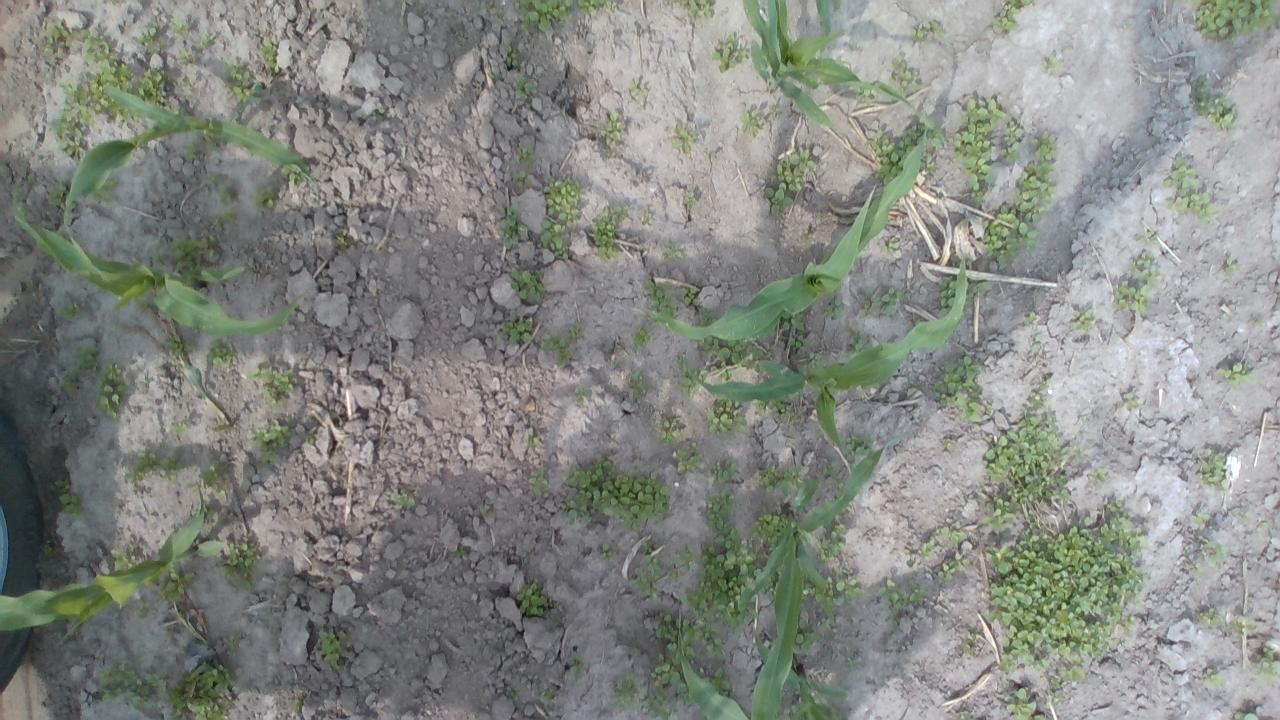Maize: (638, 134, 928, 342), (690, 254, 970, 458), (63, 80, 319, 280), (9, 178, 300, 339), (743, 438, 905, 720), (0, 485, 222, 648), (741, 0, 933, 130), (676, 622, 850, 720), (774, 0, 844, 37)
Weeds: (986, 516, 1148, 661), (982, 406, 1072, 504), (679, 529, 762, 635), (560, 454, 671, 531), (951, 97, 1007, 208), (1164, 156, 1226, 229), (50, 79, 99, 160), (1190, 0, 1280, 44), (165, 664, 235, 720), (868, 123, 924, 186), (981, 205, 1038, 264), (766, 147, 816, 214), (88, 56, 134, 124), (1188, 76, 1238, 134), (696, 336, 770, 374), (933, 355, 983, 407), (801, 566, 862, 608), (1014, 162, 1056, 222), (651, 612, 696, 666), (542, 174, 585, 228), (94, 363, 133, 420), (591, 205, 628, 262), (222, 536, 260, 590), (251, 419, 291, 464), (496, 202, 531, 252), (706, 395, 750, 434), (171, 233, 219, 268), (134, 68, 176, 106), (643, 278, 678, 323), (518, 0, 572, 29), (758, 462, 804, 496), (1196, 448, 1230, 493), (96, 662, 136, 700), (247, 363, 296, 393), (991, 0, 1030, 37), (630, 555, 662, 600), (1004, 686, 1046, 720), (128, 673, 167, 709), (691, 620, 726, 660), (159, 564, 195, 602), (815, 523, 849, 563), (220, 58, 250, 103), (712, 35, 748, 72), (509, 266, 546, 302), (1112, 279, 1150, 314), (539, 218, 570, 260), (608, 673, 644, 709), (517, 582, 554, 617), (704, 489, 735, 530), (752, 511, 789, 545), (892, 52, 922, 92), (982, 496, 1015, 531), (700, 668, 736, 700), (42, 20, 74, 56), (539, 332, 574, 364), (318, 628, 344, 670), (1216, 362, 1258, 388), (1128, 252, 1160, 286), (124, 448, 154, 484), (79, 26, 109, 62), (666, 124, 700, 154), (676, 368, 706, 402), (666, 544, 694, 580), (1250, 648, 1280, 681), (502, 314, 534, 344), (640, 692, 674, 720), (936, 552, 970, 580), (600, 110, 626, 146), (650, 654, 679, 686), (792, 618, 819, 652), (878, 579, 908, 609), (204, 340, 236, 368), (675, 442, 703, 474), (1004, 119, 1024, 162), (845, 433, 874, 462), (877, 286, 905, 316), (938, 274, 958, 316), (134, 26, 165, 53), (738, 109, 765, 140), (258, 37, 280, 74), (154, 454, 182, 483), (1031, 131, 1058, 161), (74, 344, 100, 375), (680, 0, 716, 22), (712, 458, 742, 484), (936, 520, 966, 546), (109, 544, 138, 570), (1050, 664, 1085, 685), (59, 489, 84, 518), (165, 334, 195, 358), (844, 326, 866, 358), (1202, 540, 1228, 567), (45, 182, 70, 209), (627, 371, 648, 403), (1228, 614, 1258, 636), (568, 654, 592, 681), (761, 566, 780, 600), (250, 183, 275, 208), (658, 417, 682, 443), (92, 178, 118, 202), (1197, 606, 1225, 628), (512, 145, 538, 168), (780, 308, 804, 332), (769, 397, 794, 420), (1040, 54, 1066, 76), (529, 467, 549, 495), (822, 296, 846, 319), (858, 289, 877, 318), (514, 73, 536, 98), (630, 324, 651, 350), (576, 0, 614, 14), (1070, 310, 1094, 332), (1024, 652, 1050, 672), (1204, 668, 1227, 690), (908, 581, 929, 605), (217, 180, 236, 206), (178, 141, 202, 161), (709, 364, 733, 384), (926, 124, 946, 148), (59, 303, 85, 321), (679, 285, 700, 307), (58, 370, 78, 393), (391, 488, 415, 507), (966, 280, 991, 298), (677, 682, 694, 708), (213, 208, 235, 228), (662, 241, 685, 260), (808, 688, 829, 708), (281, 166, 303, 185), (168, 18, 188, 38), (200, 464, 220, 484), (962, 403, 982, 423), (996, 653, 1016, 673), (919, 536, 936, 559), (258, 384, 276, 405), (504, 45, 521, 67), (820, 457, 839, 476), (628, 78, 648, 96), (928, 20, 948, 38), (511, 170, 532, 187), (193, 33, 214, 50), (170, 420, 192, 436), (600, 544, 616, 566), (26, 276, 40, 301), (540, 683, 560, 700), (911, 22, 928, 42), (918, 156, 938, 173), (570, 388, 591, 404), (784, 705, 806, 720), (1224, 257, 1242, 275), (190, 506, 217, 518), (1122, 392, 1140, 410), (854, 86, 872, 104), (683, 190, 699, 210), (1191, 511, 1212, 526), (568, 323, 586, 340), (700, 307, 716, 326), (806, 350, 822, 369), (1028, 391, 1048, 406), (900, 547, 915, 567), (789, 334, 810, 348), (882, 238, 899, 255), (1022, 310, 1040, 326), (1234, 709, 1260, 720), (480, 3, 502, 16), (335, 229, 349, 249), (133, 601, 150, 617), (524, 428, 540, 445), (226, 632, 242, 648), (768, 104, 784, 120), (1107, 501, 1124, 516), (162, 105, 185, 116), (150, 250, 164, 268), (1030, 333, 1042, 354), (753, 400, 768, 416), (889, 610, 901, 630), (844, 657, 859, 671), (672, 355, 686, 370), (180, 73, 193, 89), (54, 476, 70, 489), (372, 106, 386, 120), (960, 642, 974, 656), (481, 504, 494, 519), (26, 172, 38, 188), (138, 374, 150, 390), (1048, 692, 1064, 704), (1257, 520, 1273, 532), (204, 174, 218, 187), (1190, 564, 1204, 577), (818, 616, 831, 630), (1240, 511, 1253, 525), (177, 49, 189, 64), (1074, 444, 1086, 459), (1095, 467, 1106, 483), (849, 39, 862, 52), (1146, 230, 1159, 243), (641, 211, 652, 226), (835, 480, 845, 496), (966, 630, 979, 642), (954, 709, 968, 720), (801, 229, 812, 243), (44, 546, 56, 558), (292, 698, 303, 711), (641, 541, 652, 554), (941, 437, 954, 448), (1040, 378, 1051, 390), (950, 256, 961, 267), (521, 552, 531, 564), (306, 432, 316, 443), (457, 549, 468, 557), (985, 403, 993, 414), (510, 691, 516, 697)
